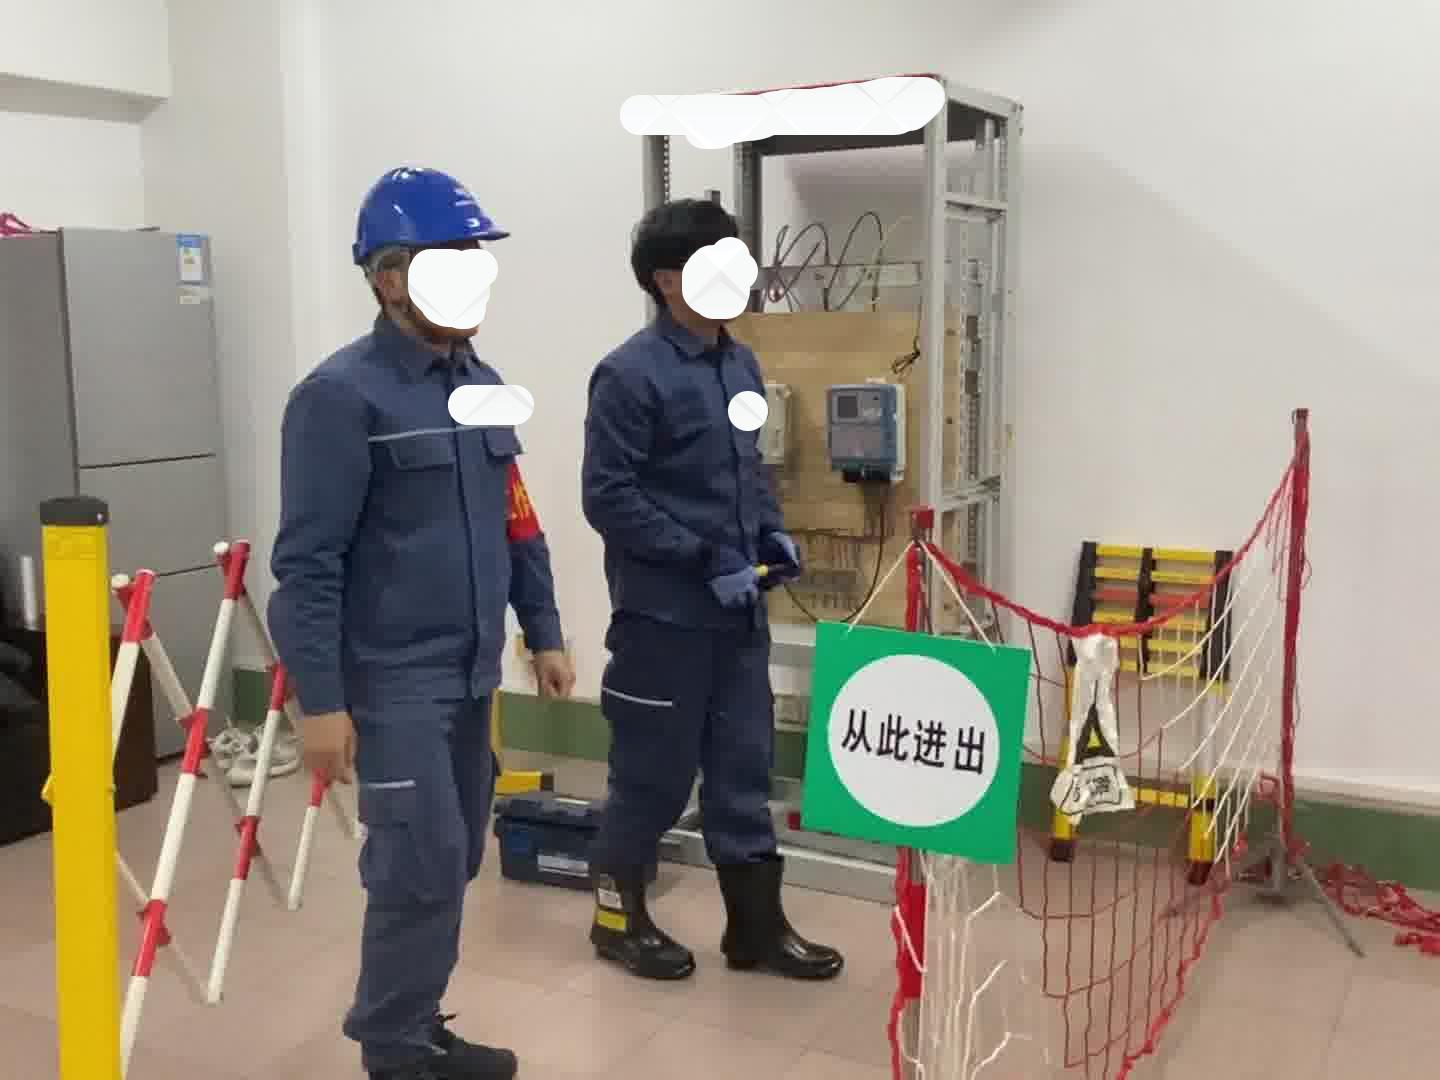halt: (351, 168, 514, 346)
inear: (365, 248, 431, 330)
noear: (653, 260, 708, 319)
unhalt: (632, 205, 754, 332)
